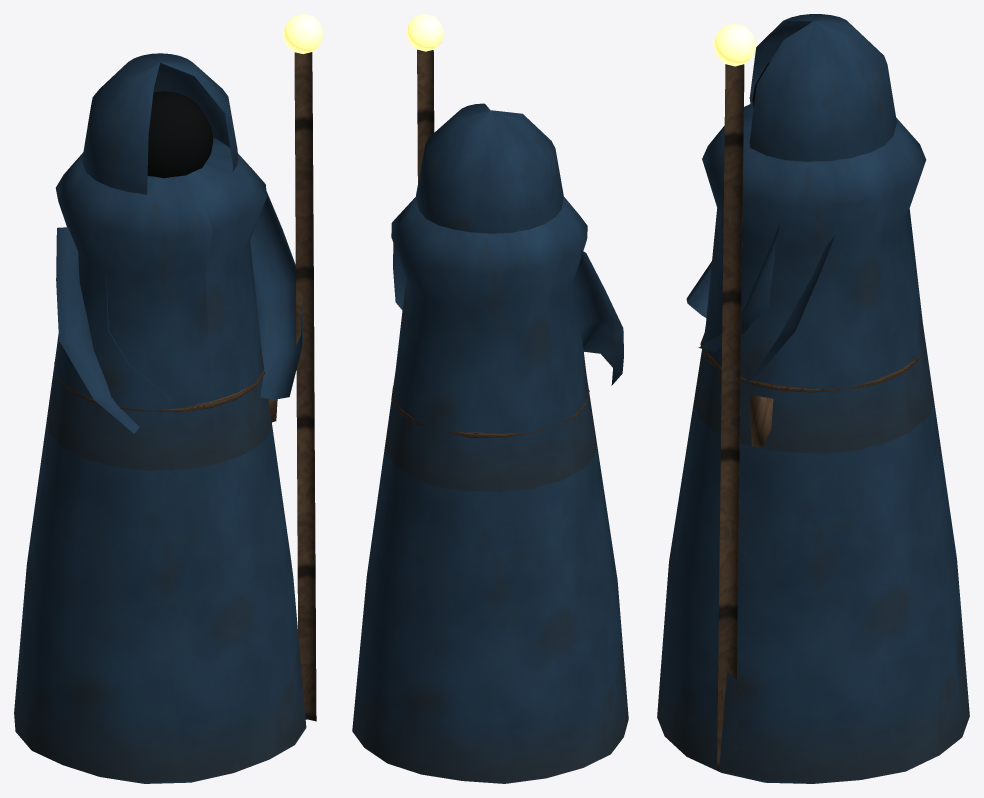
Rendered from npc_traveler.glb.
3 renders of one model, left to right at view 1: azimuth 30°, elevation 25°; view 2: azimuth 150°, elevation 25°; view 3: azimuth 270°, elevation 25°, orthographic. The views are drawn at different scales.
Parts seen in each view (by area): view 1: npc_traveler__cloth_plain, npc_traveler__wood_dark, npc_traveler__dark_void, npc_traveler__glow_warm; view 2: npc_traveler__cloth_plain, npc_traveler__wood_dark, npc_traveler__glow_warm; view 3: npc_traveler__cloth_plain, npc_traveler__wood_dark, npc_traveler__glow_warm.
Part boxes in pixels (x1,y1,x2,y2): npc_traveler__cloth_plain: [14, 53, 306, 783]; npc_traveler__wood_dark: [54, 52, 316, 721]; npc_traveler__dark_void: [147, 91, 213, 178]; npc_traveler__glow_warm: [283, 14, 323, 53]; npc_traveler__cloth_plain: [352, 103, 628, 783]; npc_traveler__wood_dark: [391, 49, 589, 437]; npc_traveler__glow_warm: [406, 14, 444, 51]; npc_traveler__cloth_plain: [657, 14, 969, 783]; npc_traveler__wood_dark: [700, 64, 925, 770]; npc_traveler__glow_warm: [713, 23, 756, 66].
Bounding box in the file's own units: 0.72 × 1.91 × 0.7204.
4 materials, 2 textured.
